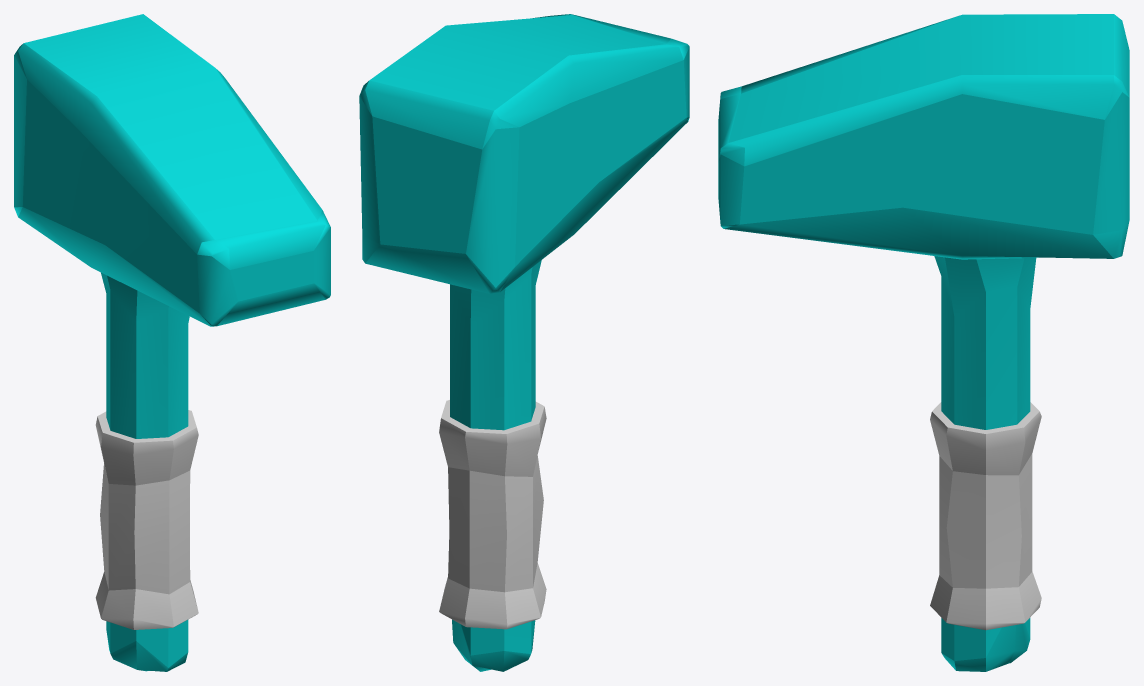
The model's file is Env_Hammer.fbx.
3 views of the same model, side by side, from view 1: azimuth 30°, elevation 25°; view 2: azimuth 150°, elevation 25°; view 3: azimuth 270°, elevation 25° (orthographic). The views are drawn at different scales.
Parts seen in each view (by area): view 1: Env_Hammer; view 2: Env_Hammer; view 3: Env_Hammer.
Boxes of the visible parts, <box> form: Env_Hammer: <box>14,14,330,671</box>; Env_Hammer: <box>359,14,689,671</box>; Env_Hammer: <box>718,14,1129,671</box>.
Size of the model in its own units: 0.1869 by 0.7483 by 0.4516.
